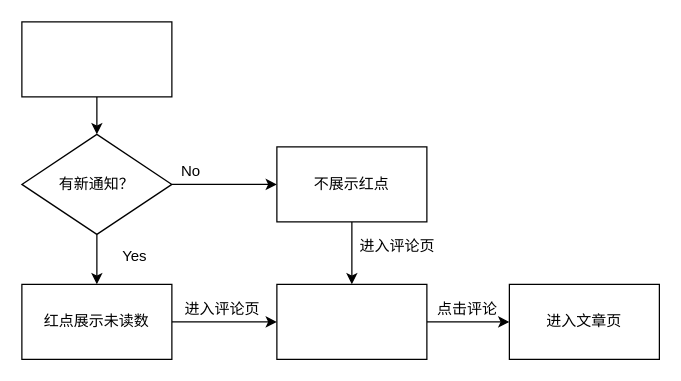
Some shapes in this 681 by 381 pixel diagram are drawn without their labels. Each missing label, with the centre of its shape:
"展示评论列表 清除未读数" belongs at pixel 351 321.
"通知" belongs at pixel 96 59.
